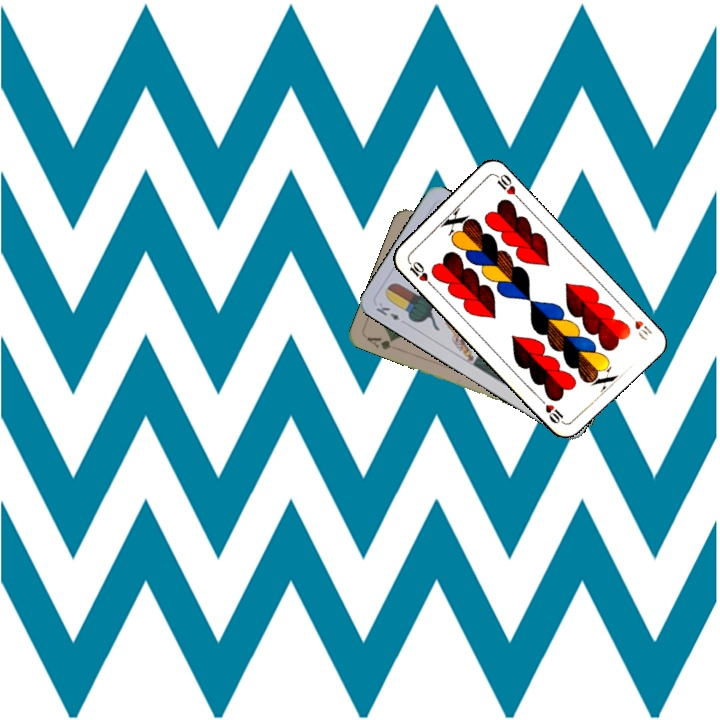EK: (372, 298, 402, 323)
GA: (362, 333, 402, 353)
H10: (404, 256, 435, 289), (623, 308, 655, 338)
